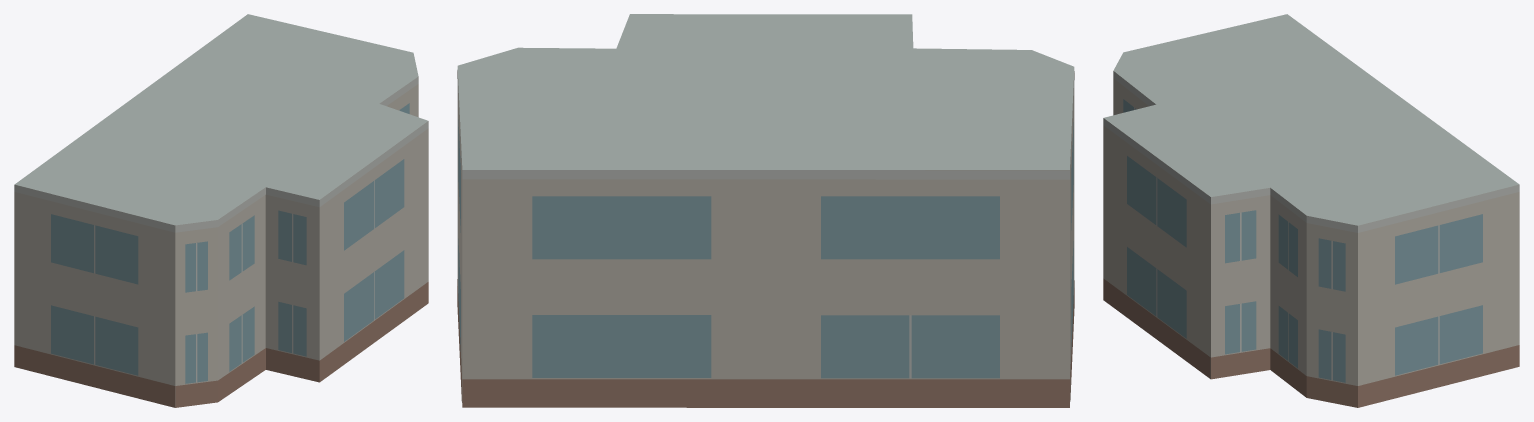
Rendered from survey-upis-32576626.glb.
The picture shows the model from 3 angles, left to right: view 1: azimuth 30°, elevation 25°; view 2: azimuth 150°, elevation 25°; view 3: azimuth 270°, elevation 25°; orthographic projection. The views are drawn at different scales.
Parts seen in each view (by area): view 1: survey-upis-32576626.tmp; view 2: survey-upis-32576626.tmp; view 3: survey-upis-32576626.tmp.
Boxes of the visible parts, x1,y1,x2,y2 form: survey-upis-32576626.tmp: (14, 14, 428, 407); survey-upis-32576626.tmp: (457, 14, 1074, 407); survey-upis-32576626.tmp: (1103, 14, 1519, 407).
Bounding box in the file's own units: 15.21 × 6.1 × 12.64.
